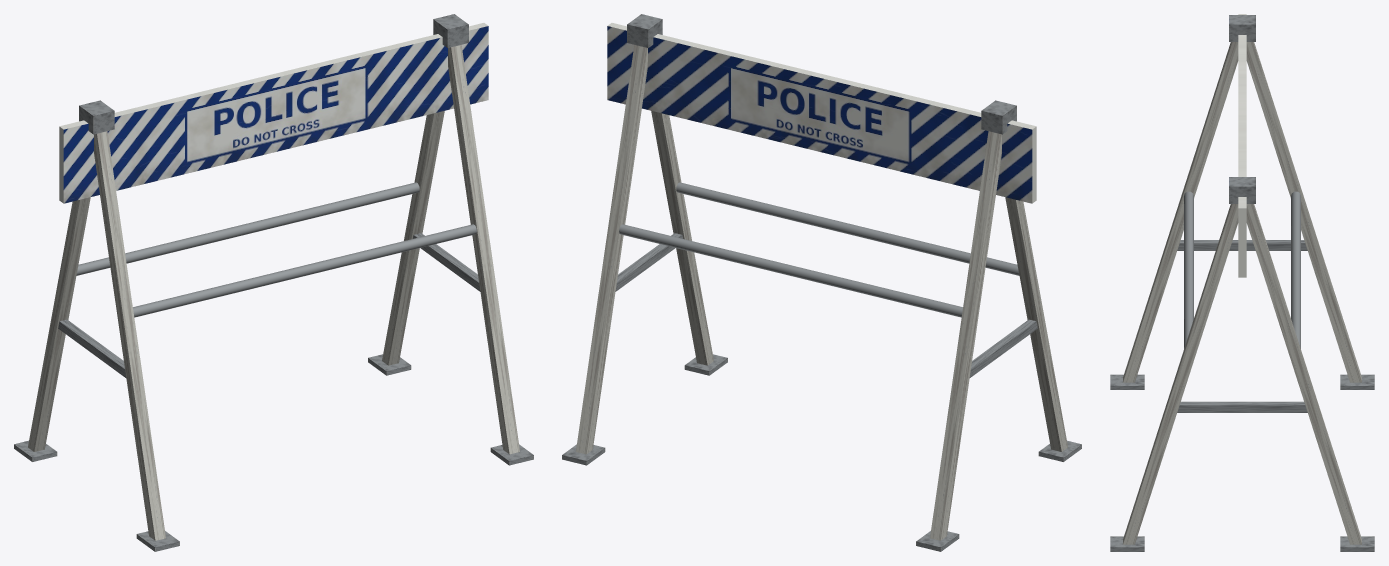
File: PoliceBarrier.obj
The picture shows the model from 3 angles, left to right: view 1: azimuth 30°, elevation 25°; view 2: azimuth 150°, elevation 25°; view 3: azimuth 270°, elevation 25°; orthographic projection. The views are drawn at different scales.
Parts seen in each view (by area): view 1: Barrier; view 2: Barrier; view 3: Barrier.
Boxes of the visible parts, <box> form: Barrier: <box>14,14,533,551</box>; Barrier: <box>562,14,1081,551</box>; Barrier: <box>1110,14,1374,551</box>.
Bounding box in the file's own units: 1.2 × 1.05 × 0.69.
Materials: 1 (1 with a texture image).
